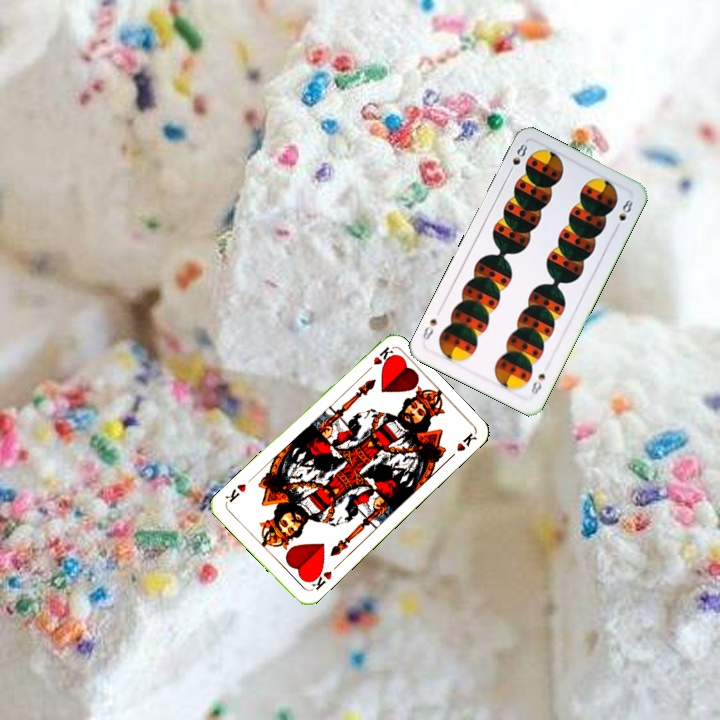HK: (360, 343, 396, 376), (305, 565, 334, 593)
S8: (504, 140, 530, 177), (527, 369, 548, 400)
